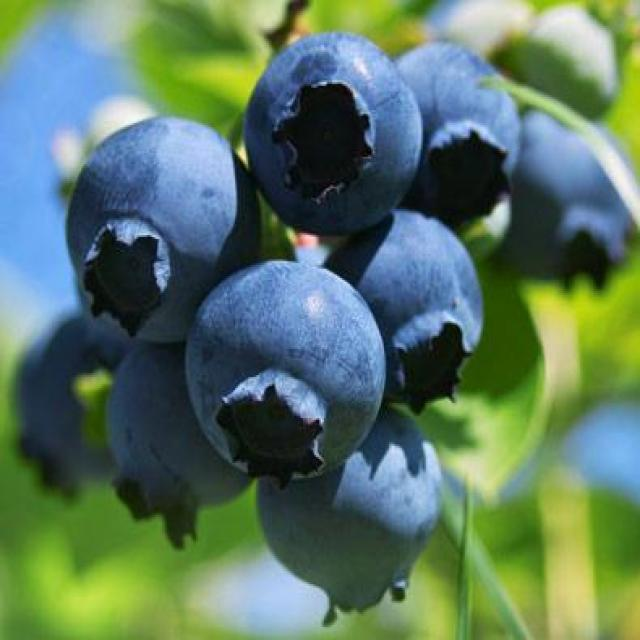BlueBerry - v1: (51, 104, 276, 364), (180, 254, 390, 502), (248, 396, 452, 623), (219, 22, 429, 241), (97, 332, 266, 543), (334, 206, 494, 426), (386, 39, 523, 222), (507, 112, 640, 300)
